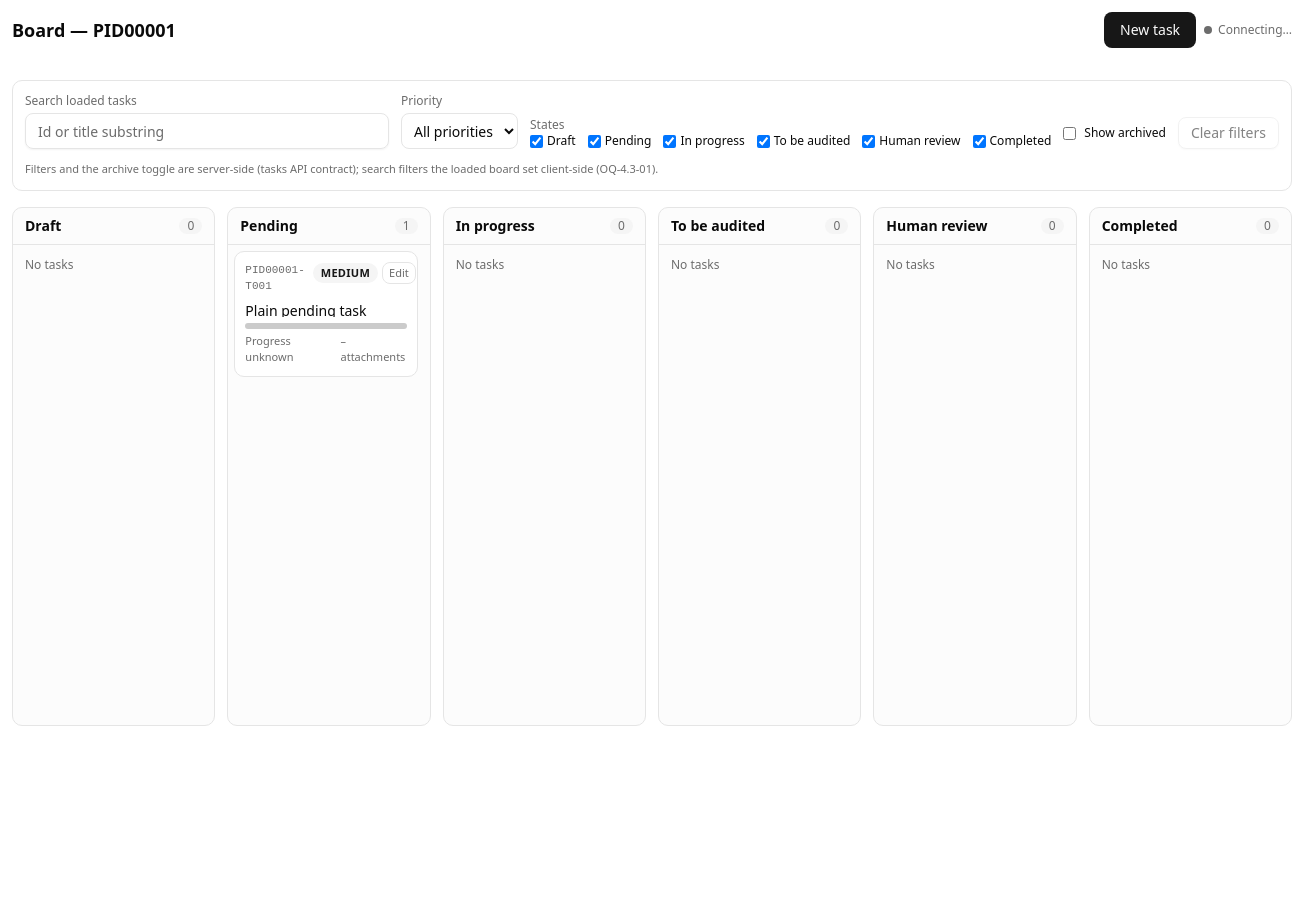
Board filters (MT-4.3-03) › shows the filtered-empty state (distinct from loading/error) with a clear action
expect the link "Plain pending task" is shown: met, box x1=245 y1=300 x2=366 y2=316
Step 1. Type "nothing-matches" into the search field with test id "board-search" → coordinates (207, 131), box x1=25 y1=113 x2=389 y2=149
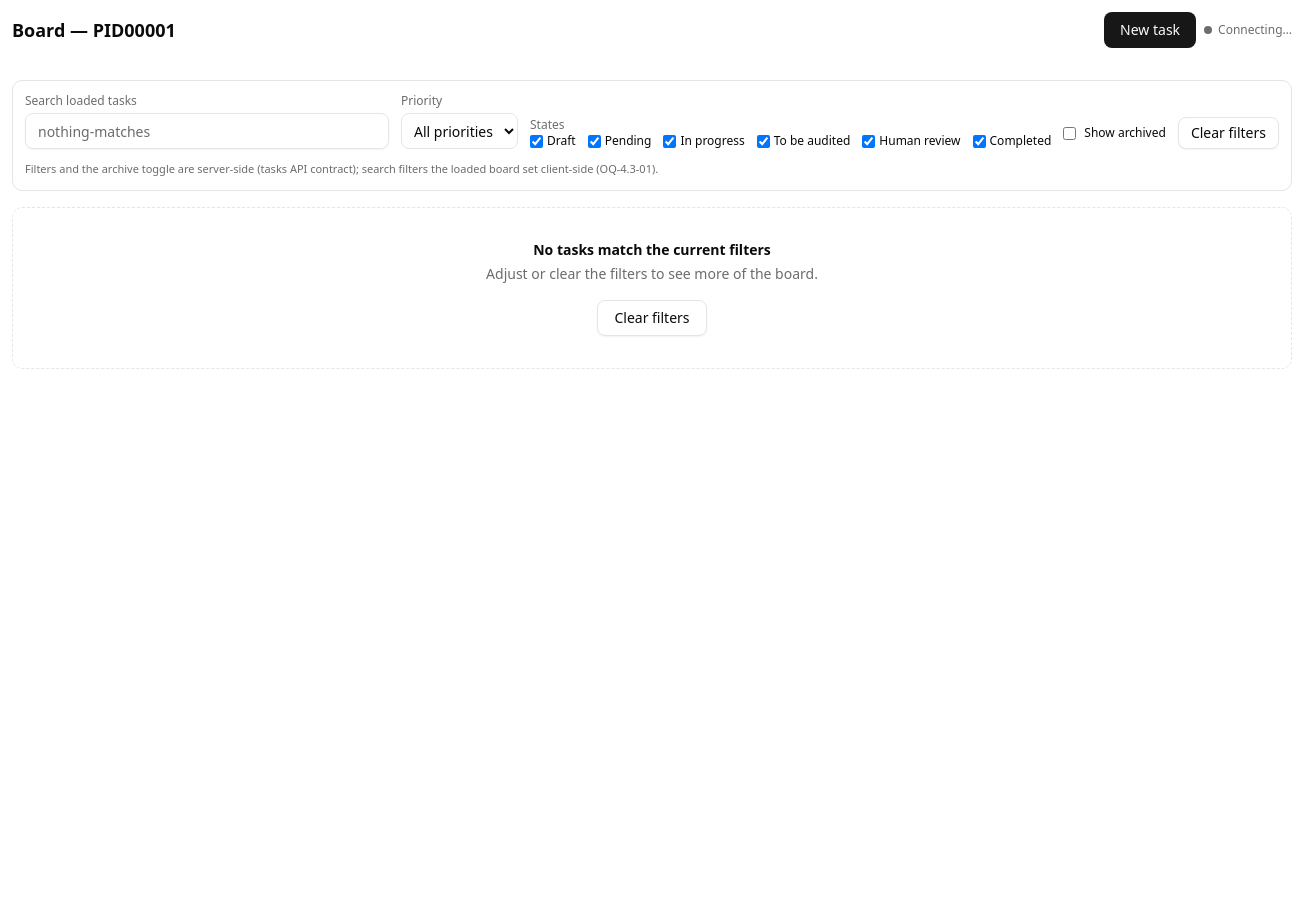
expect the heading "No tasks match the current filters" is shown: met, box x1=533 y1=240 x2=771 y2=258
Step 2. Click the button with test id "board-empty-clear-filters" → coordinates (652, 318), box x1=597 y1=300 x2=706 y2=336
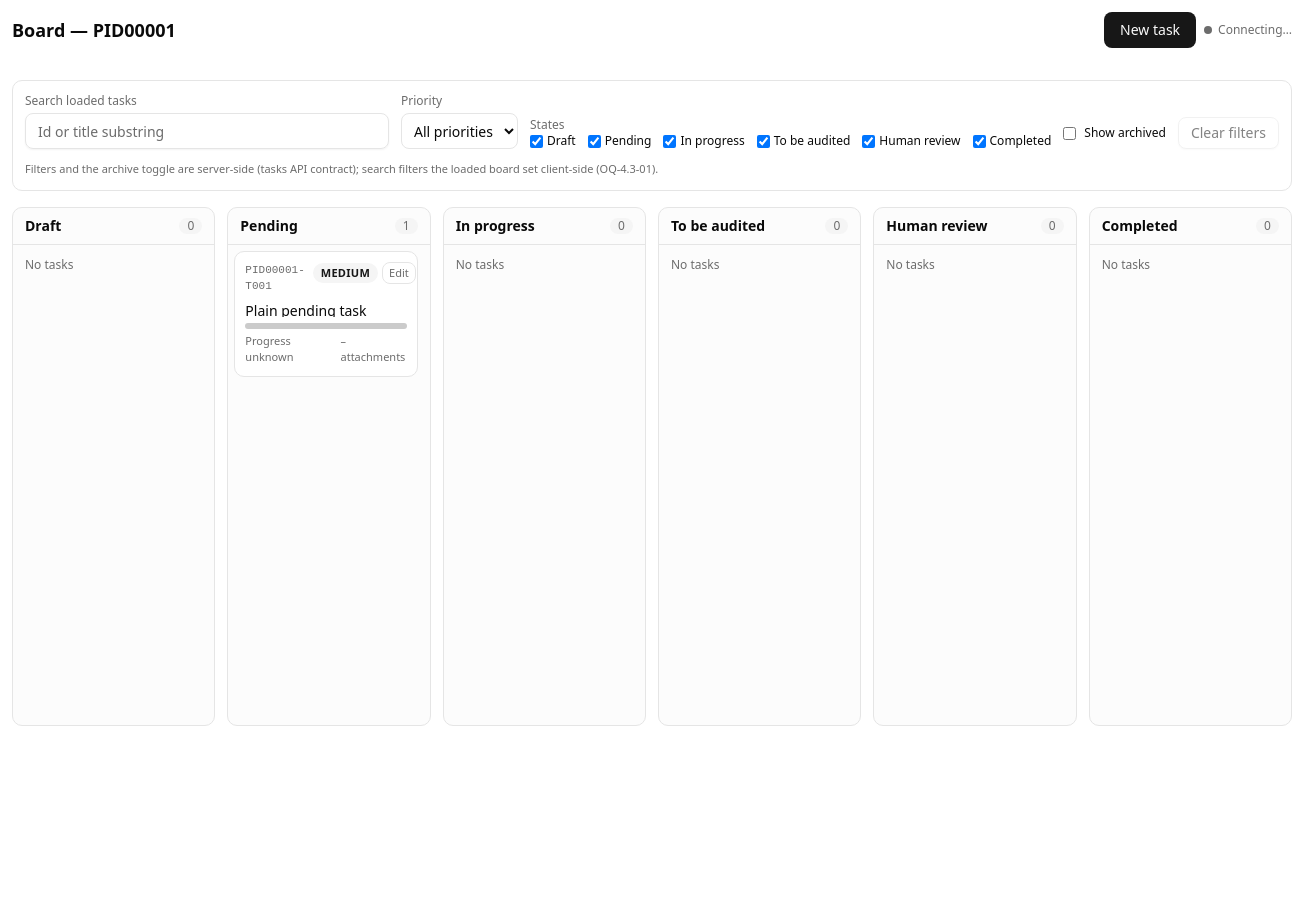
expect the link "Plain pending task" is shown: met, box x1=245 y1=300 x2=366 y2=316
expect the search field with test id "board-search" is empty: met, box x1=25 y1=113 x2=389 y2=149
